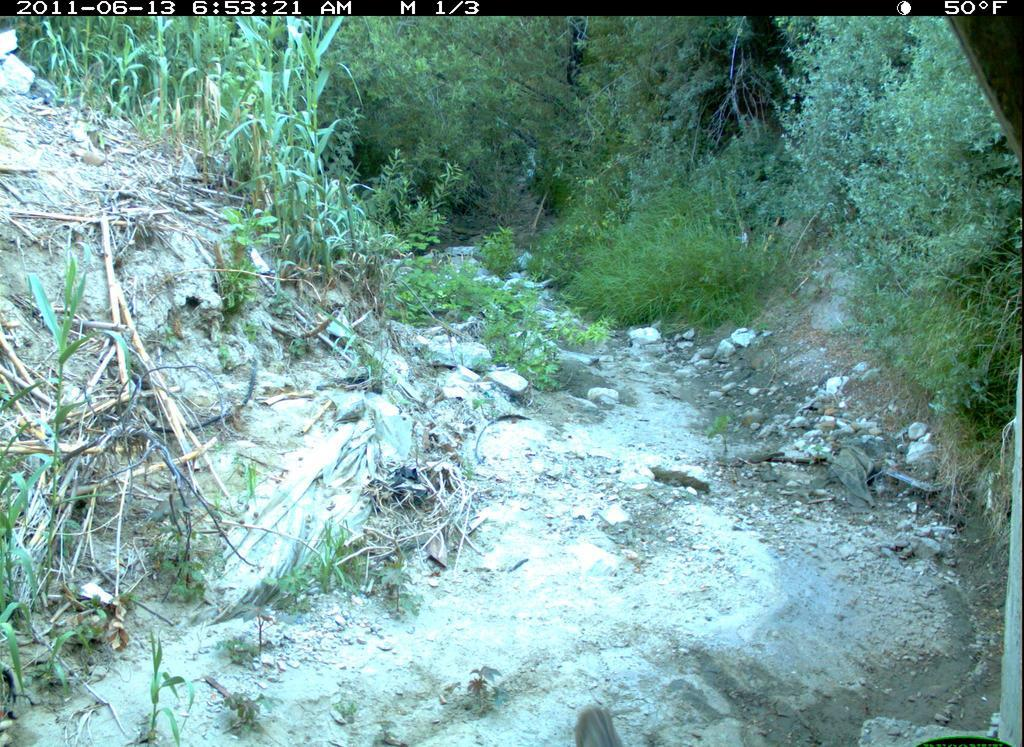bobcat: (568, 699, 629, 747)
